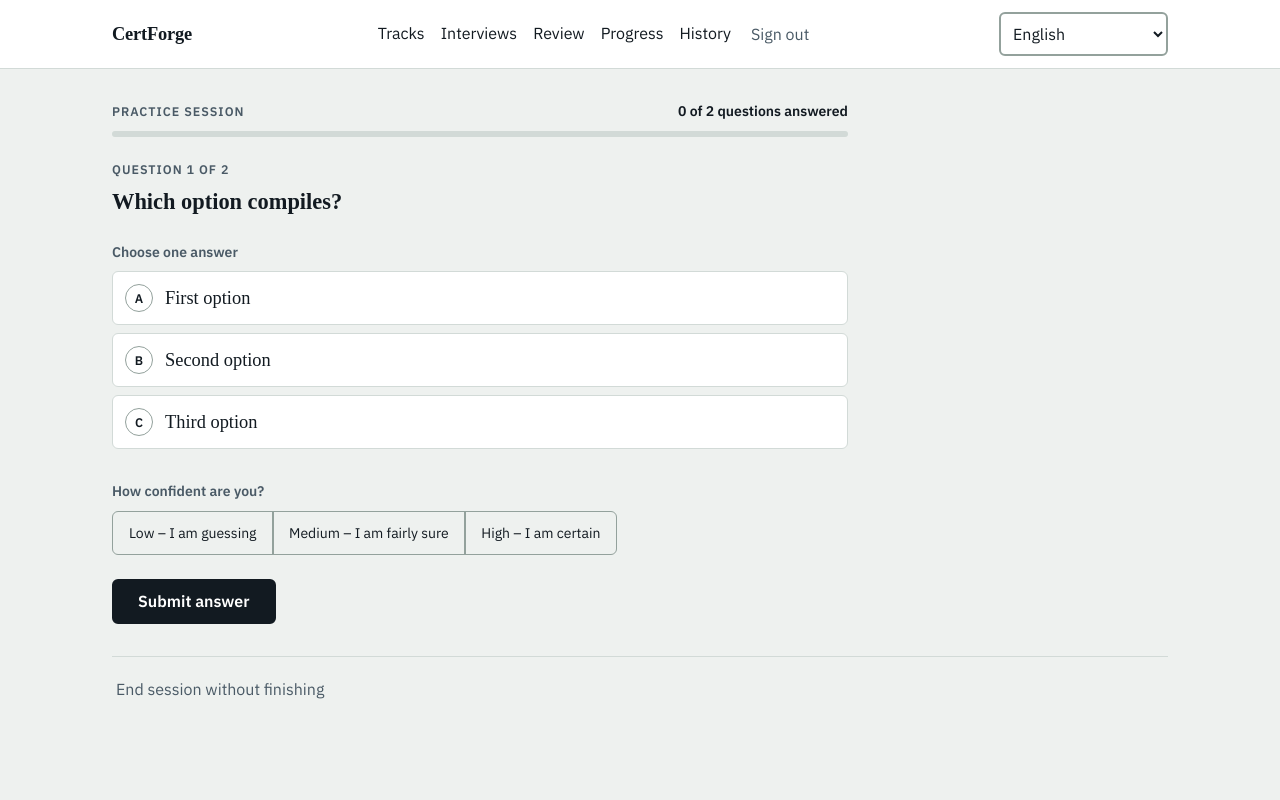
Scenario: answering questions › asks for an answer and a confidence level before sending anything
Expected: the heading "Question 1 of 2" is shown, [112,161,230,177]
What coordinates should you click on to do the following:
click the button "Submit answer"
I would click on:
 (194, 601)
Its box is [112,579,276,624].
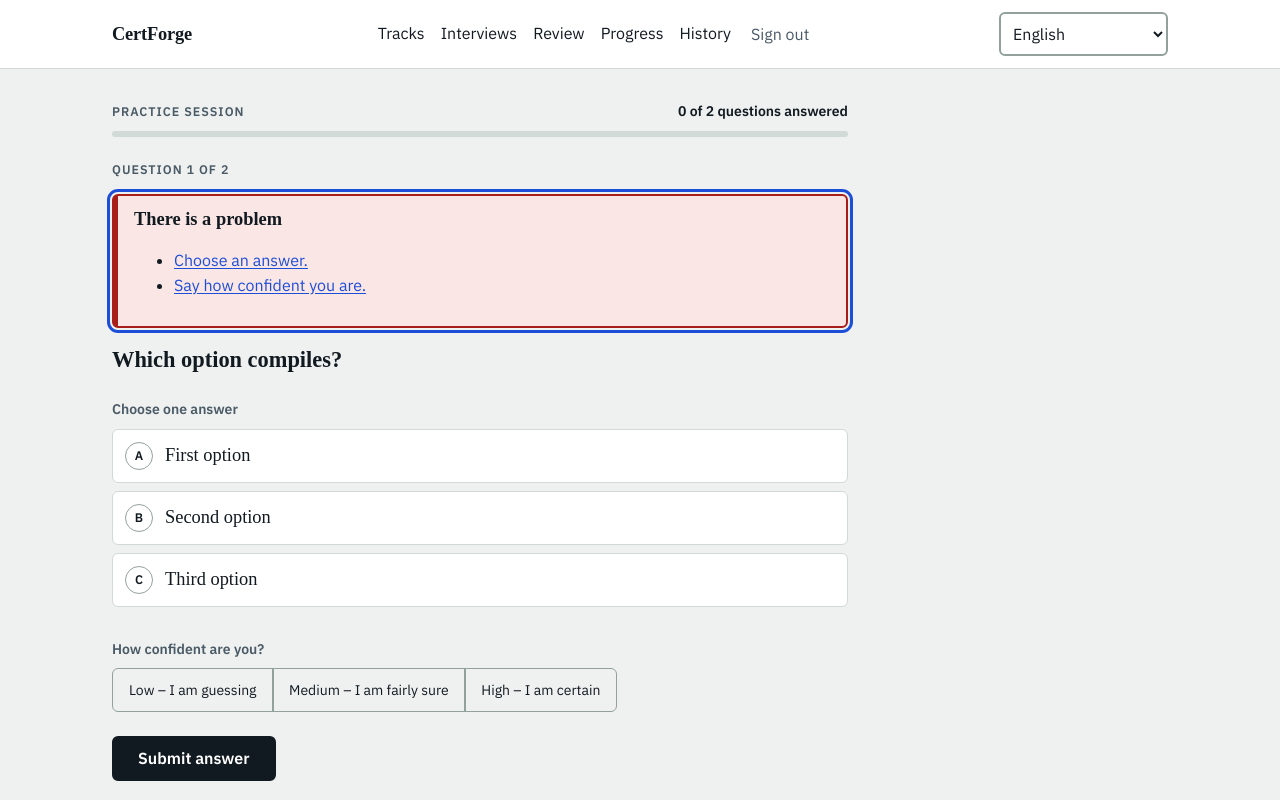
Expected: the message shows "Choose an answer.", [174,250,308,270]
Expected: the message shows "Say how confident you are.", [174,275,366,295]
